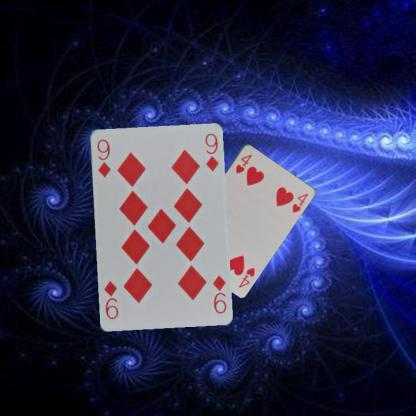4h: (236, 265, 256, 289), (233, 152, 253, 174)
9d: (209, 272, 228, 315), (94, 136, 112, 178)
